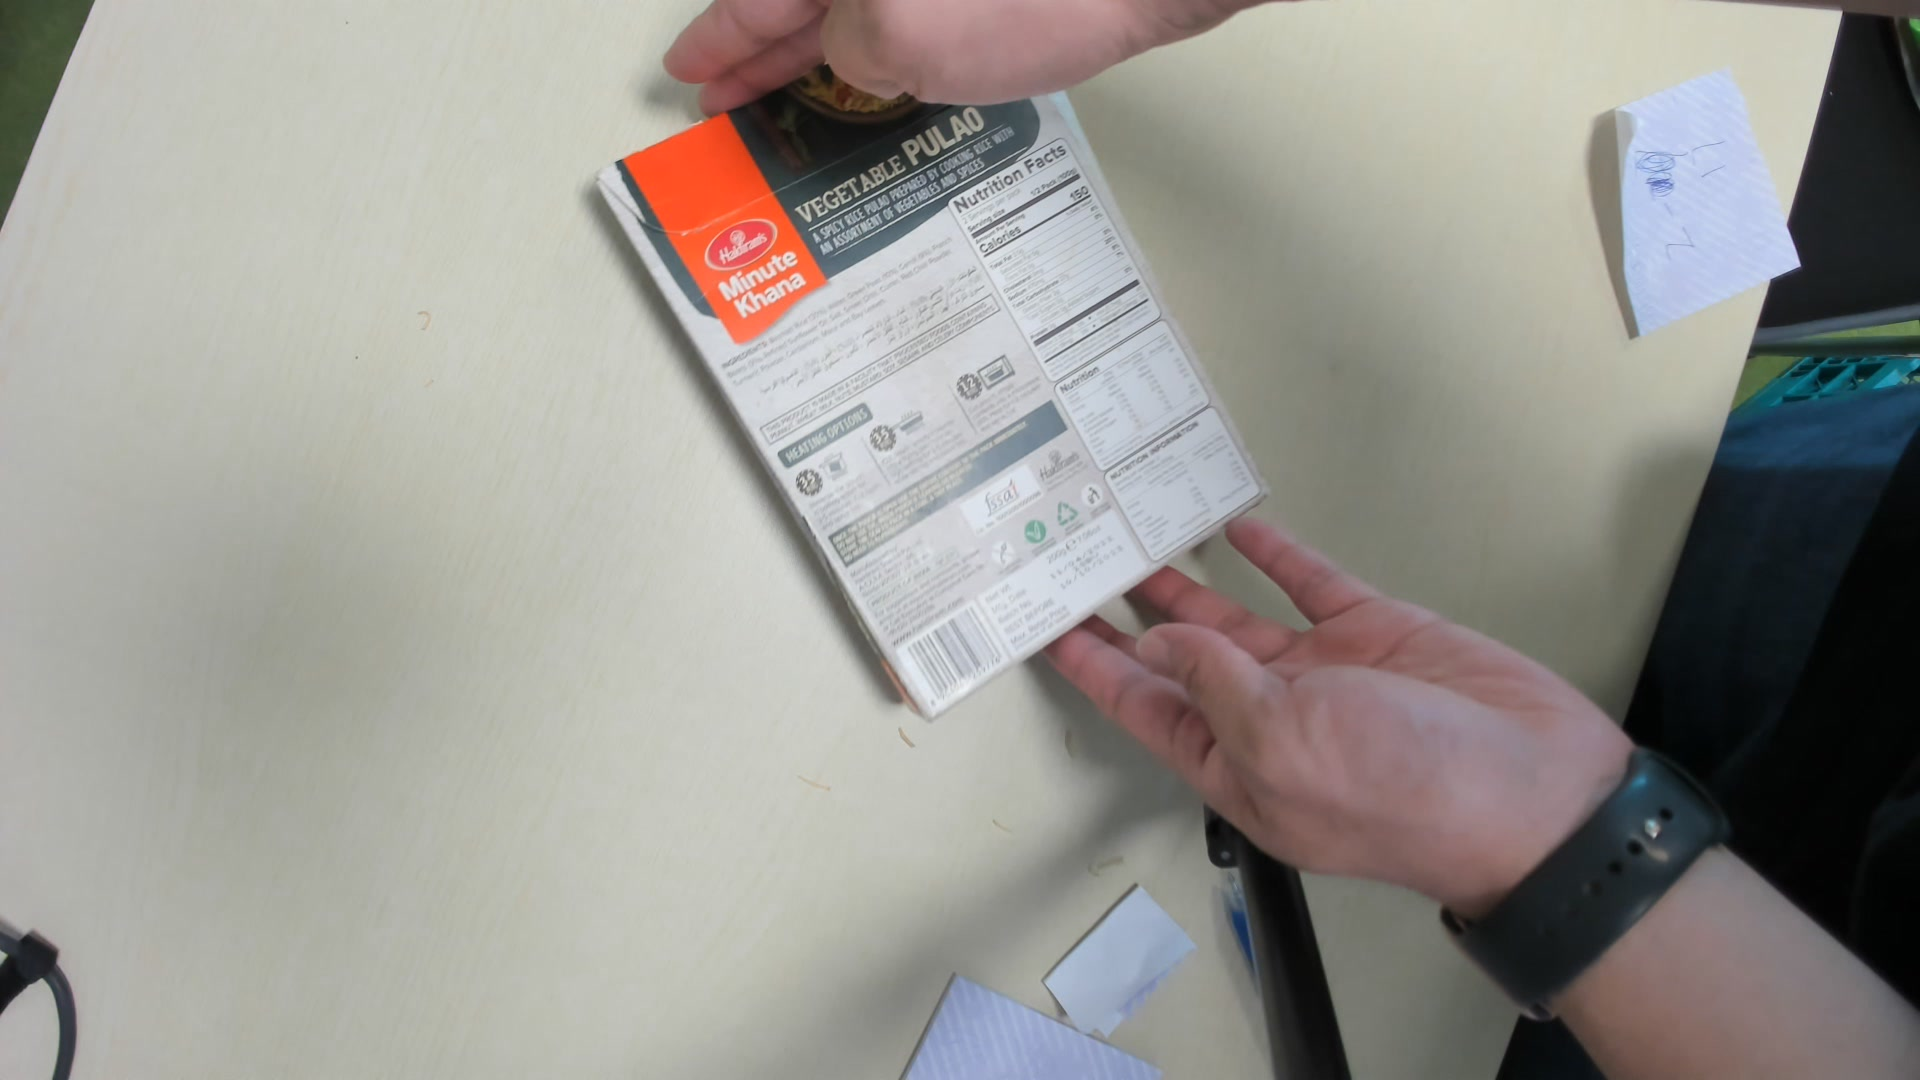InstantMeals_200_299g_NonHalal_NonHealthy: (597, 50, 1257, 723)
